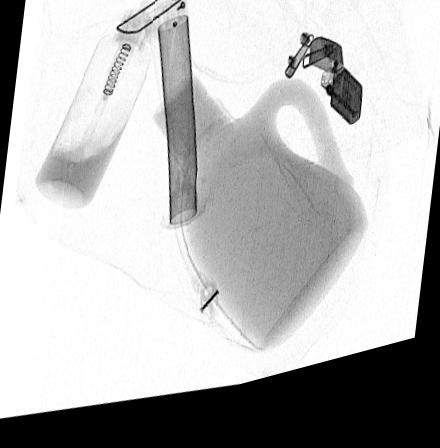Lighter: (308, 52, 363, 144)
